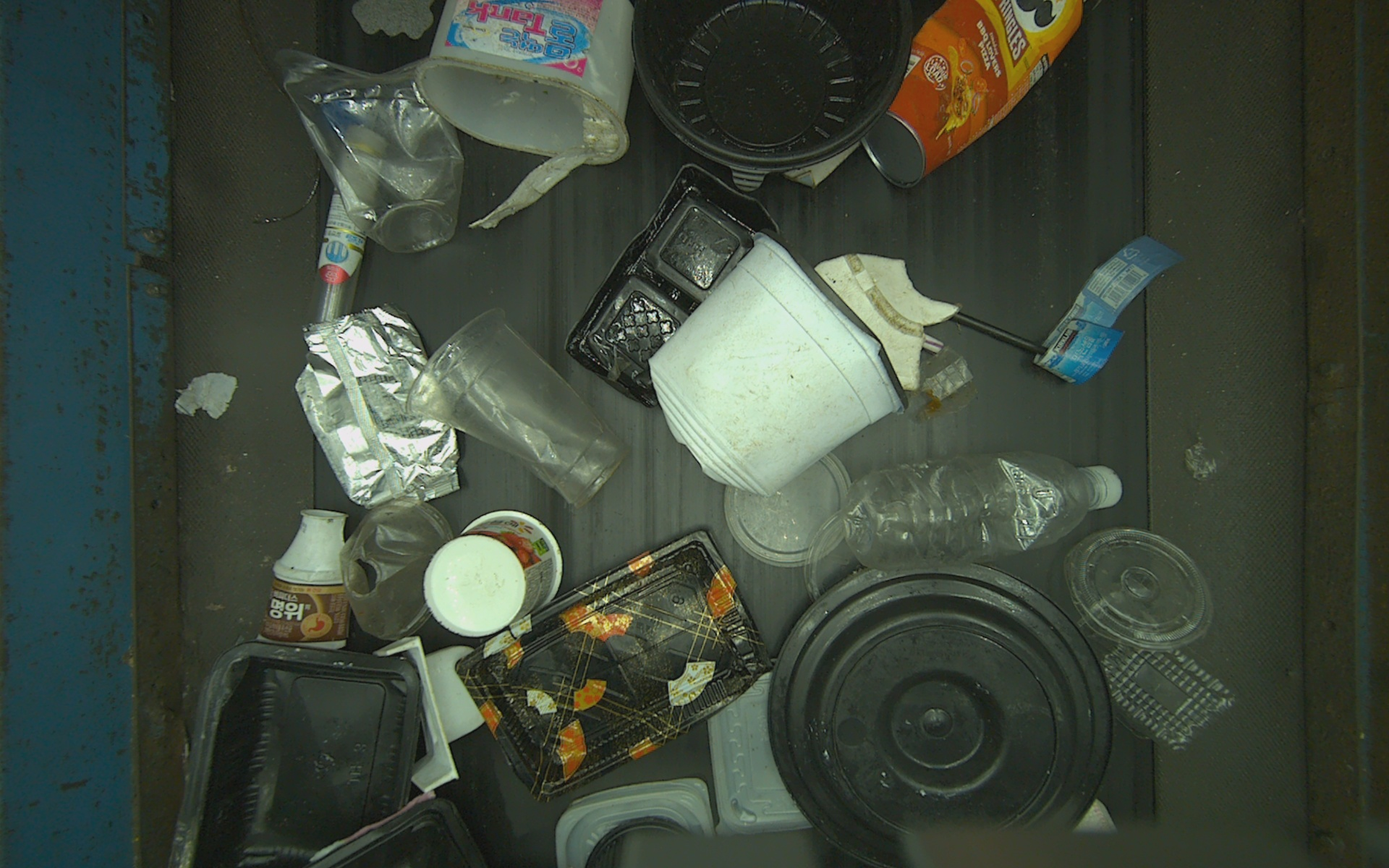PET: (839, 451, 1122, 572)
PET-C: (404, 307, 631, 508), (272, 48, 464, 254), (1075, 618, 1236, 757), (1064, 527, 1215, 652), (338, 500, 456, 640)
PP-B: (766, 563, 1113, 868), (180, 641, 421, 868), (631, 0, 914, 192)
PS-W: (257, 509, 350, 650)
